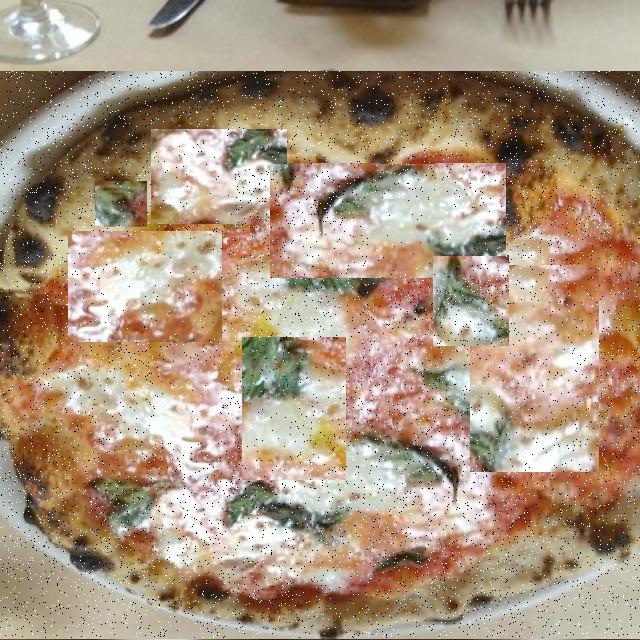Basil: (289, 397, 398, 511), (370, 200, 472, 273), (433, 256, 509, 346), (235, 169, 344, 225), (162, 368, 218, 441), (95, 182, 147, 227), (380, 140, 435, 169)
Cheese: (270, 164, 506, 278), (470, 266, 599, 472), (68, 232, 222, 342), (242, 338, 346, 480), (151, 130, 287, 224)
Pizza: (0, 72, 640, 638)
